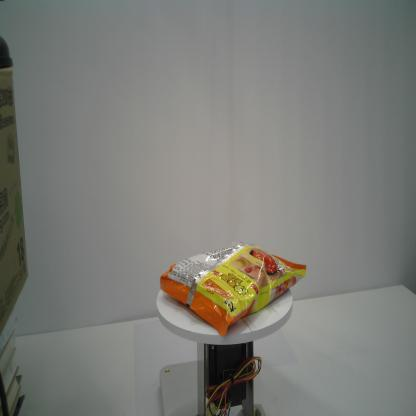Instant Noodles: (160, 242, 308, 338)
